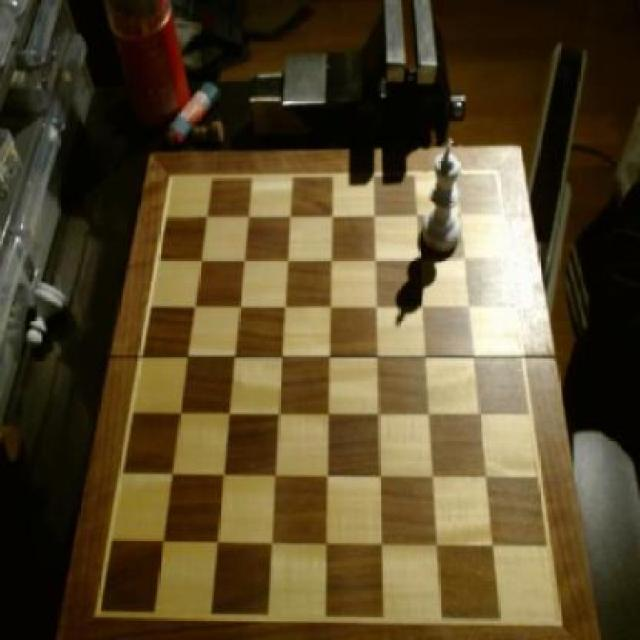white-bishop: (423, 143, 464, 259)
